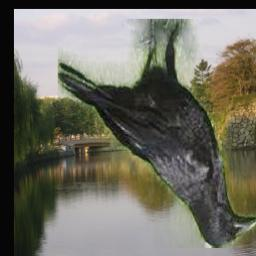Crow: (57, 20, 256, 249)
